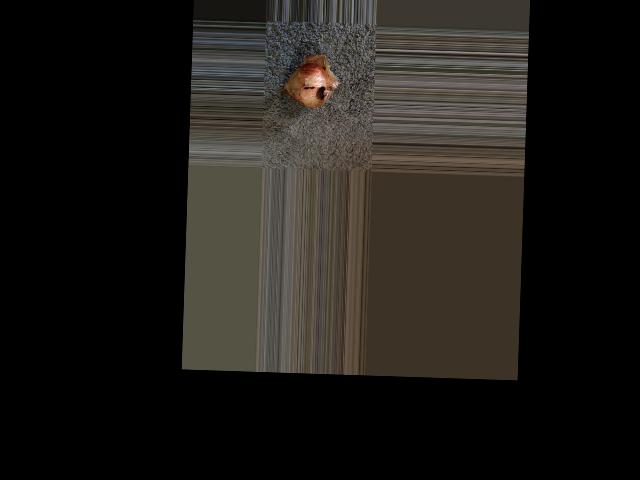onion: (284, 62, 332, 109)
